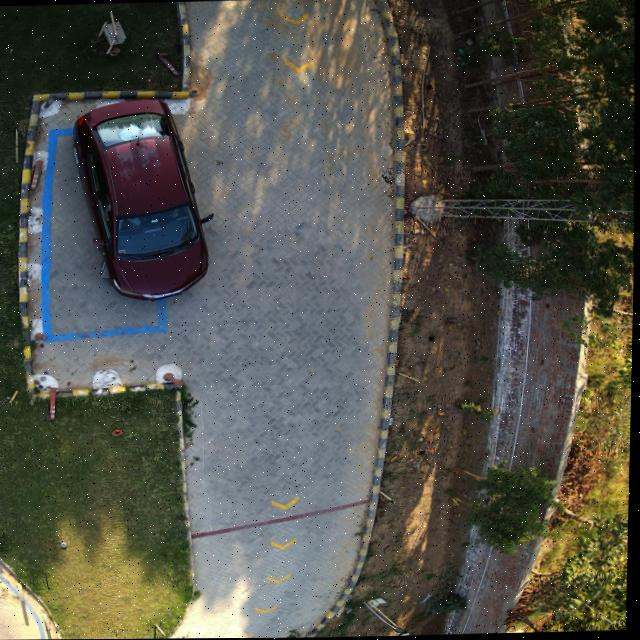car: (75, 98, 207, 300)
